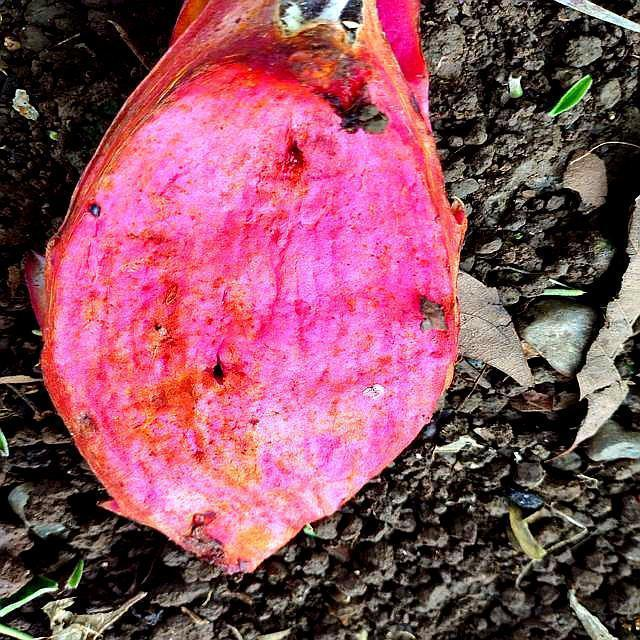Biodegradable: (29, 1, 455, 567)
